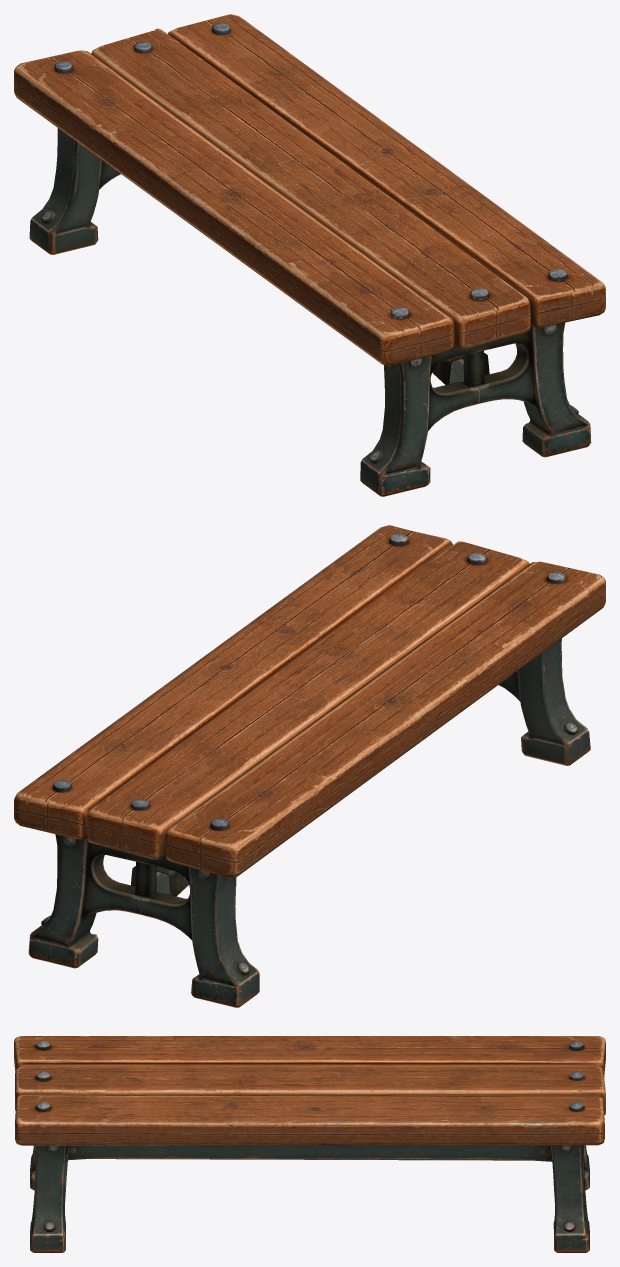
Rendered from P08_sidewalk_bench_source.fbx.
3 renders of one model, top to bottom at view 1: azimuth 30°, elevation 25°; view 2: azimuth 150°, elevation 25°; view 3: azimuth 270°, elevation 25°, orthographic. The views are drawn at different scales.
Visible parts, largest first — view 1: tripo_63fd41b0_2210_48c4_8fb3_afe50a209fe9; view 2: tripo_63fd41b0_2210_48c4_8fb3_afe50a209fe9; view 3: tripo_63fd41b0_2210_48c4_8fb3_afe50a209fe9.
Boxes of the visible parts, left/top/right/bottom form: tripo_63fd41b0_2210_48c4_8fb3_afe50a209fe9: left=14, top=14, right=605, bottom=496; tripo_63fd41b0_2210_48c4_8fb3_afe50a209fe9: left=14, top=525, right=605, bottom=1007; tripo_63fd41b0_2210_48c4_8fb3_afe50a209fe9: left=14, top=1036, right=605, bottom=1252.
Bounding box in the file's own units: 0.3491 × 0.2603 × 0.9995.
Materials: 1 (1 with a texture image).
